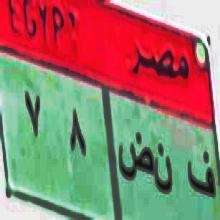7: (24, 88, 44, 139)
8: (68, 105, 87, 169)
daad: (118, 127, 154, 191)
faa: (187, 147, 215, 207)
noon: (154, 140, 174, 203)
